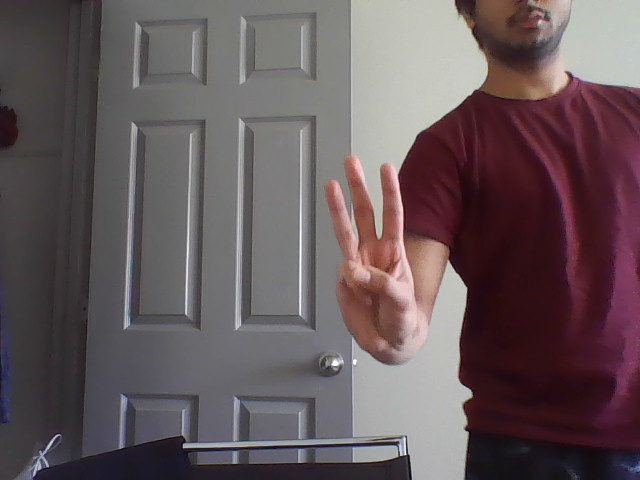three: (314, 148, 420, 280)
